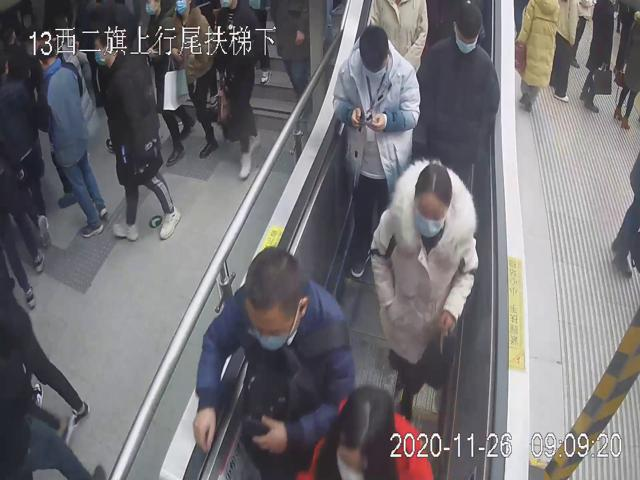person: (192, 242, 356, 480), (366, 156, 478, 422), (332, 27, 419, 287), (94, 20, 182, 242), (418, 1, 500, 186)
